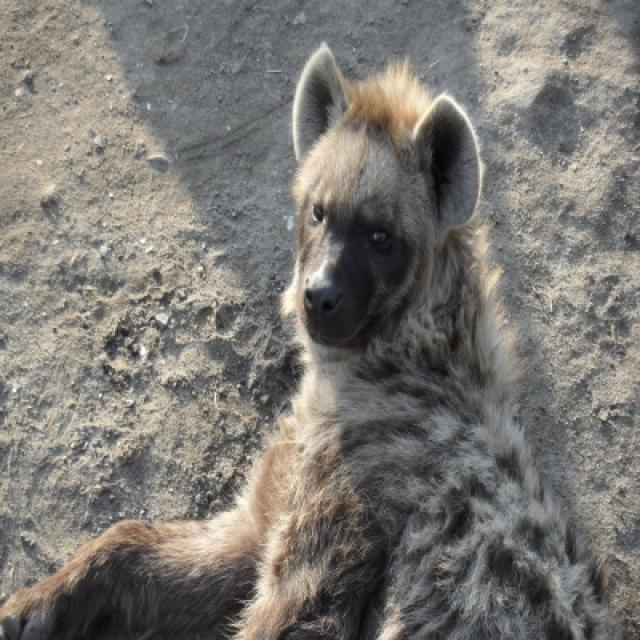hyena: (0, 45, 616, 638)
